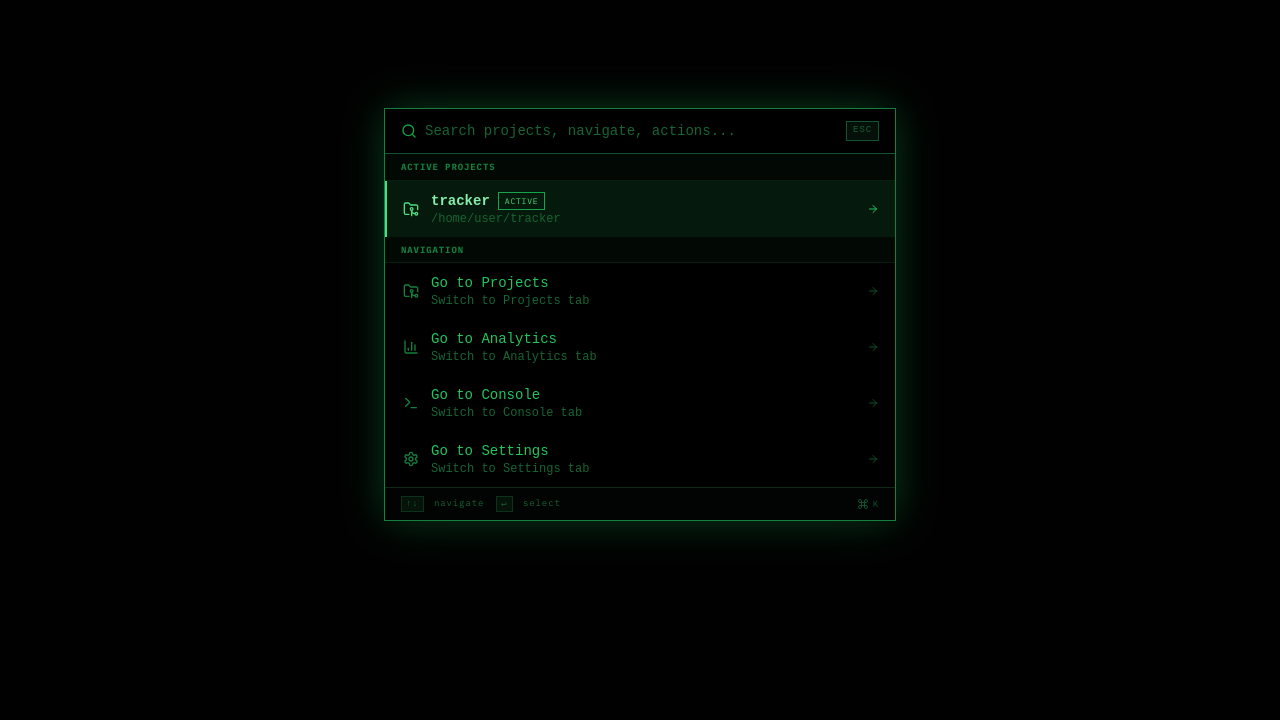
Test: CommandPalette › shows no results message for unmatched query
The width and height of the screenshot is (1280, 720).
In the field with placeholder "Search projects, navigate, actions...": (632, 131) [425,121,838,141], type "zzzznonexistent"
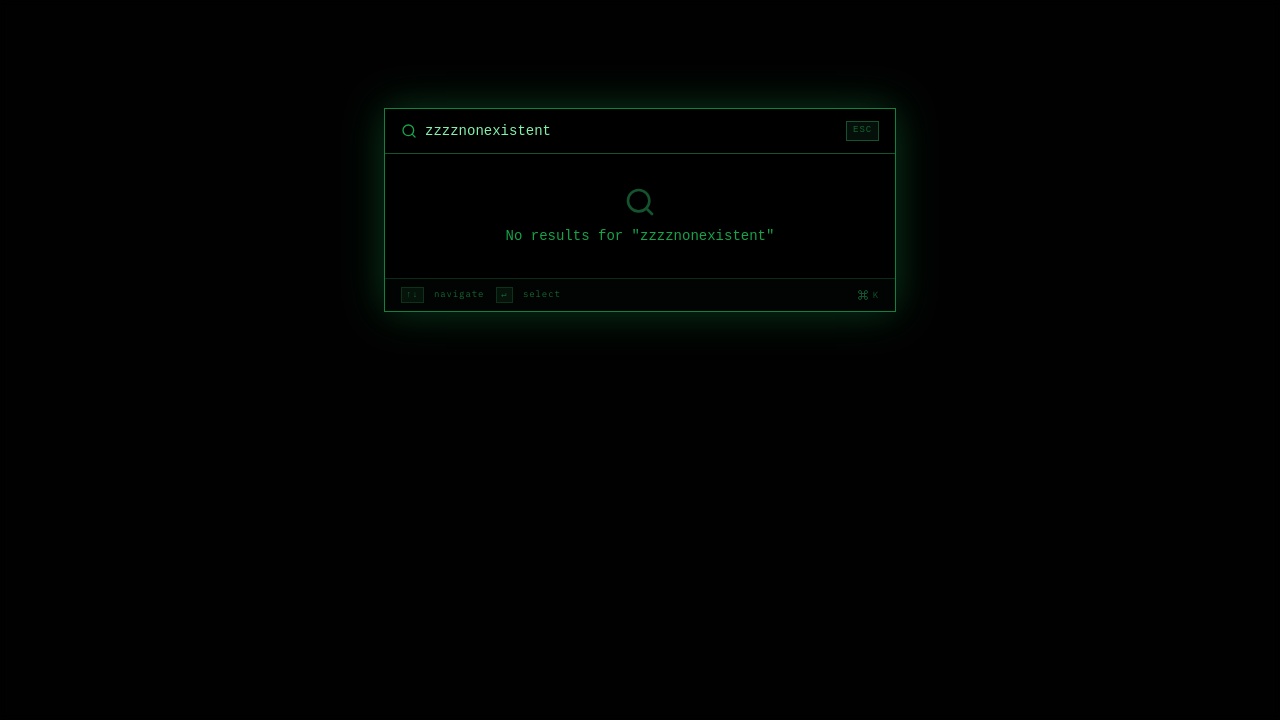
Check: the text "No results for \"zzzznonexistent\"" is shown, box [506,226,774,246]
